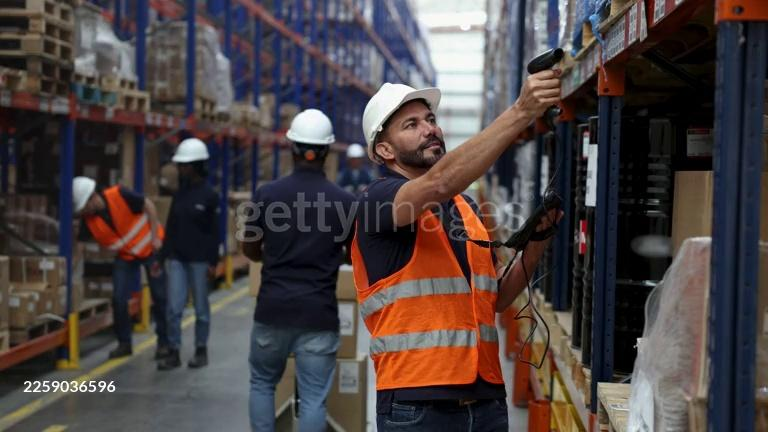helmet: (363, 81, 442, 144), (287, 109, 337, 145), (171, 138, 210, 164), (71, 176, 97, 214), (347, 143, 365, 158)
person: (352, 67, 564, 431), (236, 109, 357, 432), (71, 176, 160, 358), (156, 139, 224, 371), (334, 143, 372, 204)
